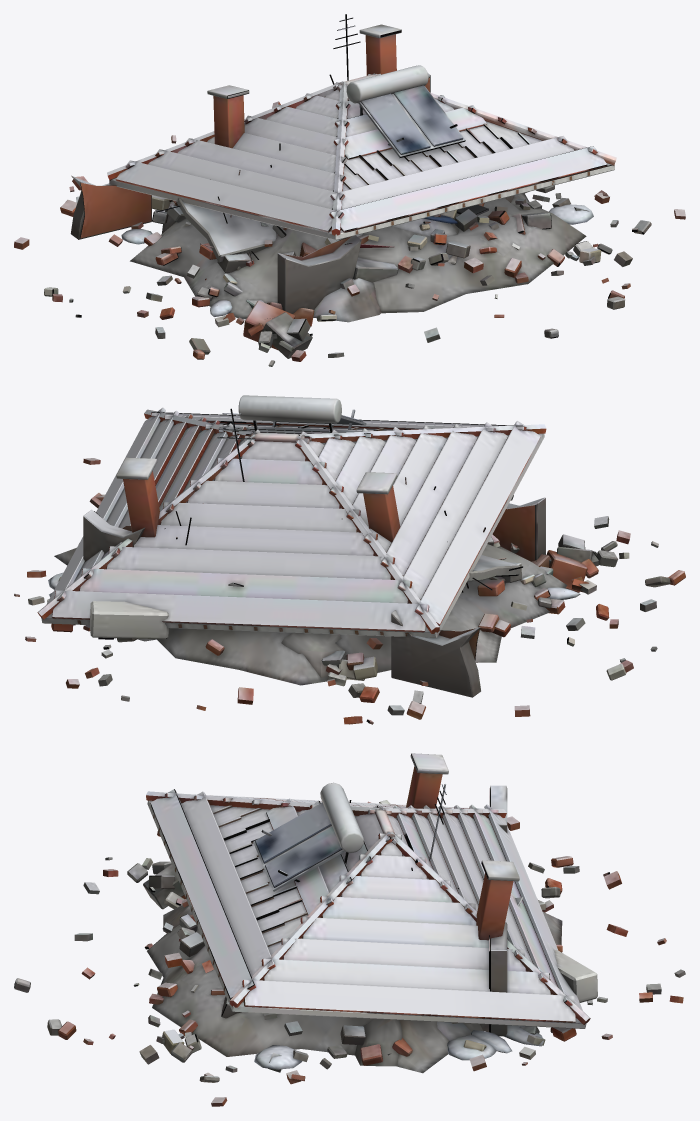
Rendered from bld_house_collapsed.glb.
The picture shows the model from 3 angles, top to bottom: view 1: azimuth 30°, elevation 25°; view 2: azimuth 150°, elevation 25°; view 3: azimuth 270°, elevation 25°; orthographic projection. The views are drawn at different scales.
Parts seen in each view (by area): view 1: bld_house_collapsed; view 2: bld_house_collapsed; view 3: bld_house_collapsed.
Part boxes in pixels (bbox=[...]): bld_house_collapsed: bbox=[14, 14, 685, 366]; bld_house_collapsed: bbox=[14, 395, 685, 724]; bld_house_collapsed: bbox=[14, 753, 685, 1106].
Size of the model in its own units: 16.24 by 5.55 by 15.37.
1 material, 1 textured.
